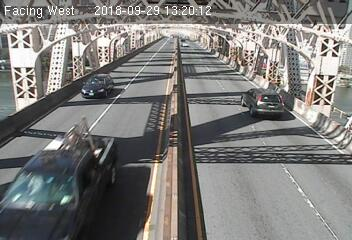car: (1, 118, 129, 238), (240, 83, 288, 121), (76, 68, 119, 99)
